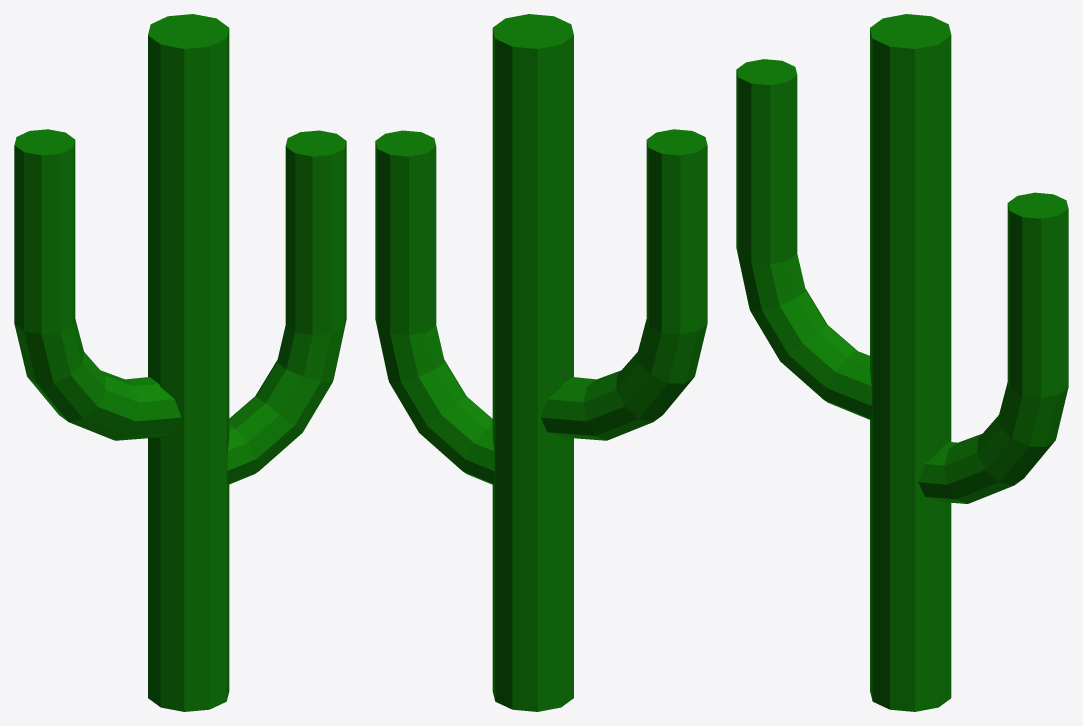
File: Cactus.fbx
3 renders of one model, left to right at view 1: azimuth 30°, elevation 25°; view 2: azimuth 150°, elevation 25°; view 3: azimuth 330°, elevation 25°, orthographic.
Parts seen in each view (by area): view 1: Cylinder, Cylinder.001, Cylinder.002; view 2: Cylinder, Cylinder.001, Cylinder.002; view 3: Cylinder, Cylinder.001, Cylinder.002.
Part boxes in pixels (x1=…): Cylinder: x1=148, y1=14, x2=229, y2=711; Cylinder.001: x1=14, y1=129, x2=181, y2=440; Cylinder.002: x1=227, y1=130, x2=346, y2=484; Cylinder: x1=492, y1=14, x2=573, y2=711; Cylinder.001: x1=540, y1=129, x2=707, y2=440; Cylinder.002: x1=375, y1=130, x2=494, y2=484; Cylinder: x1=870, y1=14, x2=951, y2=711; Cylinder.001: x1=736, y1=59, x2=872, y2=419; Cylinder.002: x1=918, y1=192, x2=1068, y2=503.
Size of the model in its own units: 62.1 by 122 by 13.9.
